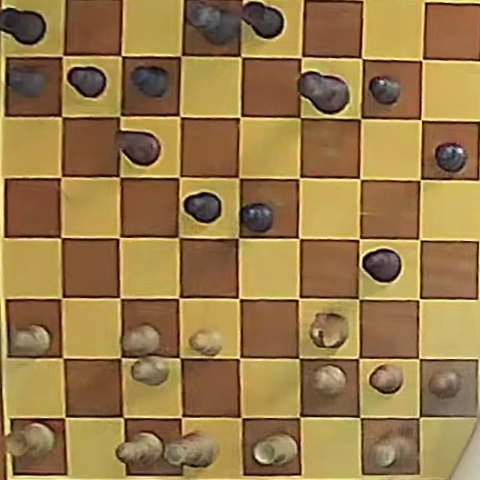black-bishop: (362, 249, 401, 283)
black-king: (298, 72, 349, 113)
black-knight: (117, 131, 160, 165)
black-pawn: (7, 66, 47, 98), (131, 66, 170, 98), (68, 66, 106, 98), (183, 192, 221, 223), (241, 203, 274, 232), (369, 76, 401, 105), (435, 143, 467, 172)
black-queen: (185, 1, 240, 45)
black-rook: (0, 7, 46, 46), (241, 2, 284, 40)
white-bishop: (116, 432, 164, 466)
white-king: (370, 433, 411, 469)
white-knight: (310, 312, 348, 348)
white-pawn: (10, 324, 51, 356), (123, 324, 161, 355), (131, 356, 169, 386), (370, 364, 403, 394), (313, 365, 346, 395), (428, 370, 461, 399), (189, 328, 223, 356)
white-queen: (164, 432, 219, 468)
white-rook: (6, 422, 55, 459), (252, 433, 297, 466)
